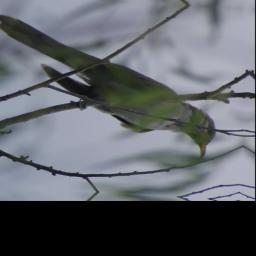Cuckoo: (0, 7, 226, 157)
